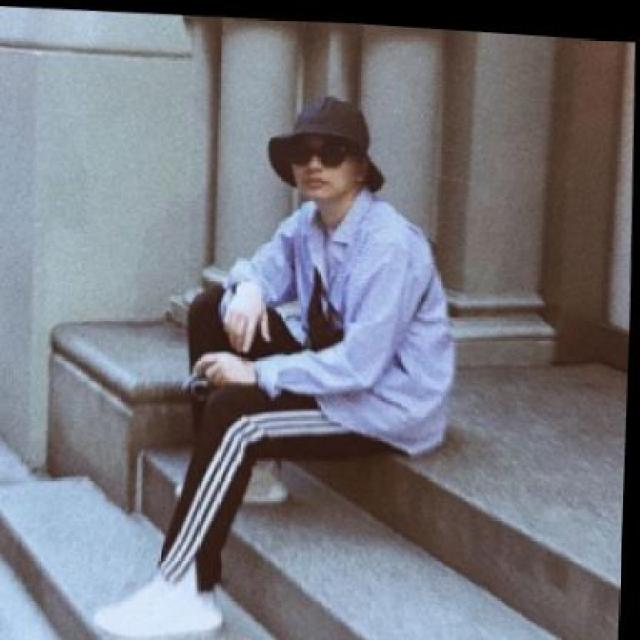hat: (265, 86, 390, 194)
